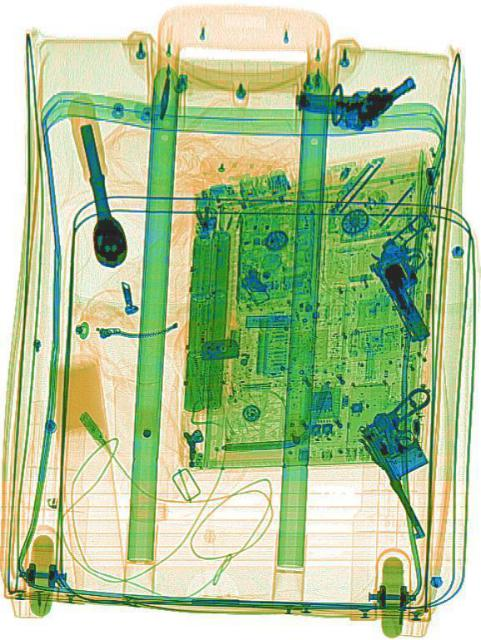Gun: (356, 380, 479, 544), (361, 202, 477, 352), (291, 60, 417, 134)
